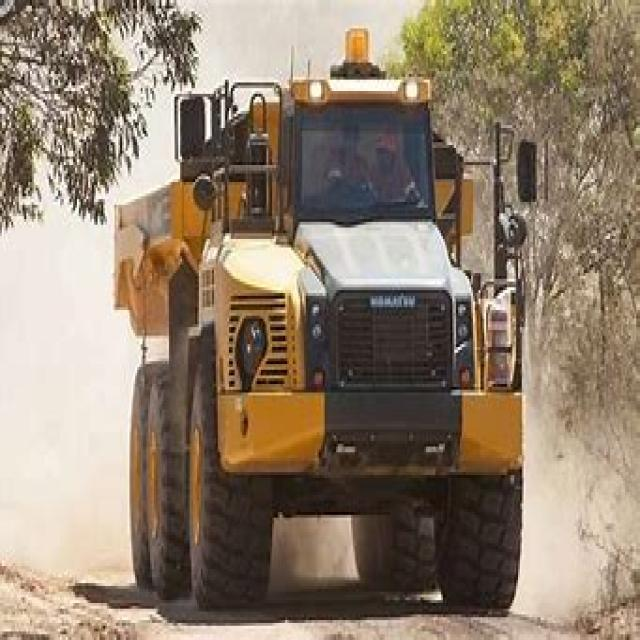dump_truck: (88, 37, 529, 606)
